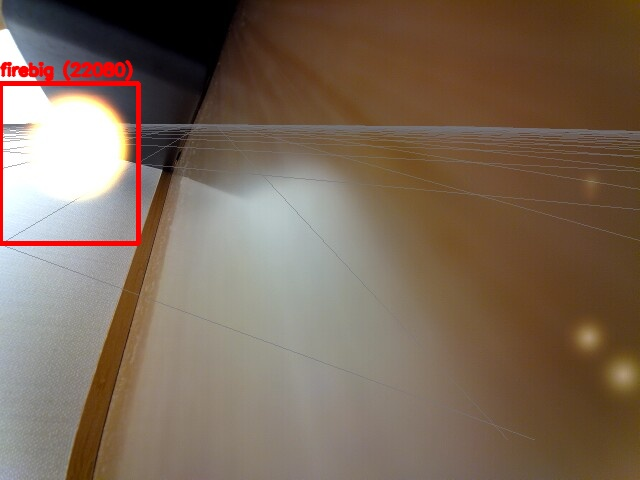firebig: (0, 83, 138, 243)
